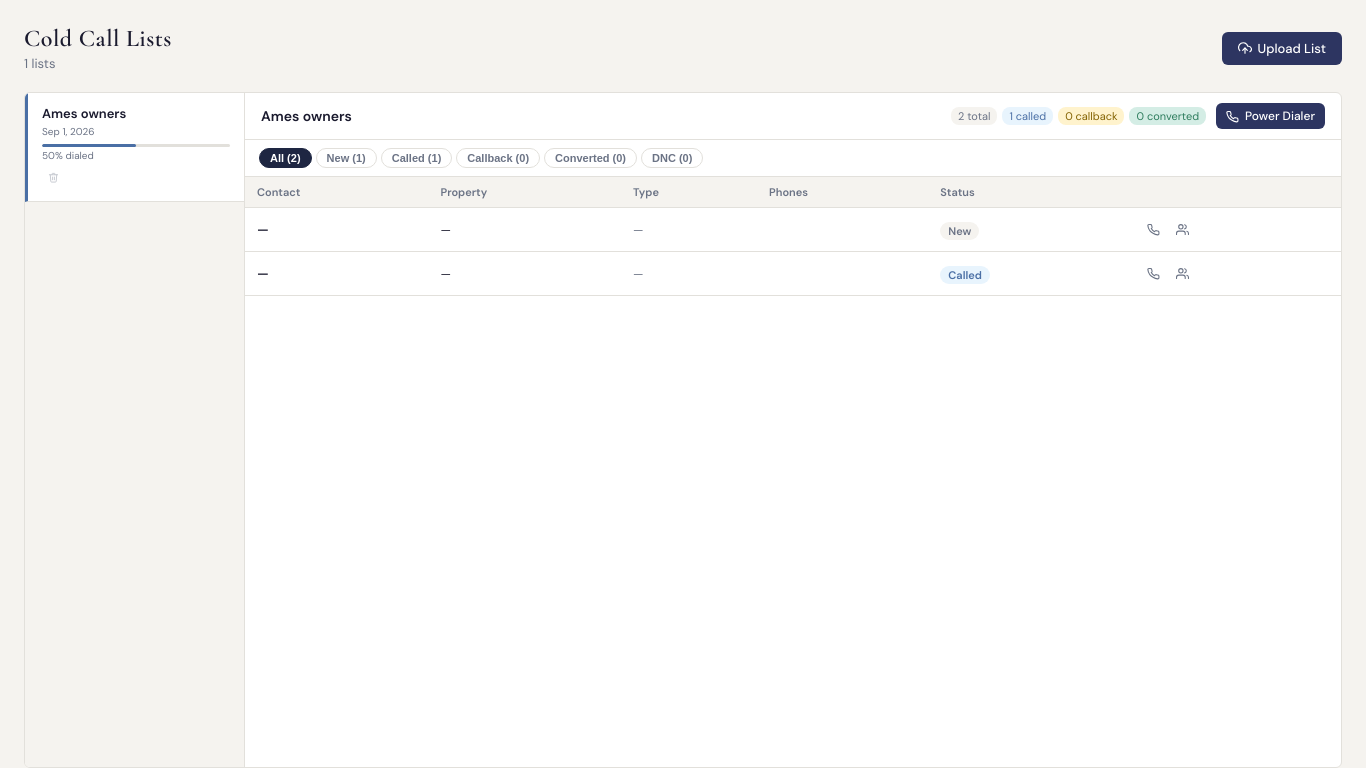
Test case: Cold call list delete › reports a refused delete (no rows removed) and keeps the list
Click the button named "Delete list Ames owners" at (54, 178), box [42,166,65,189]
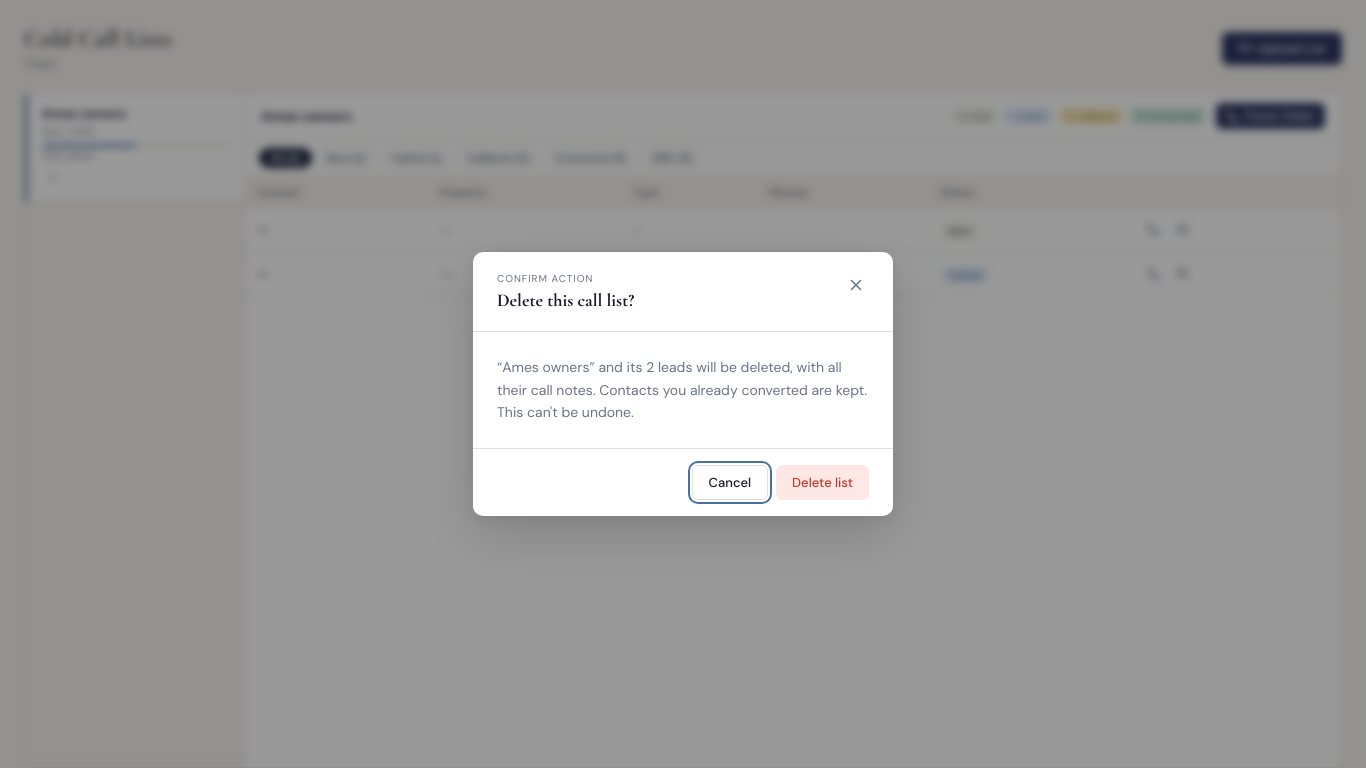
Click the button "Delete list" at (823, 482), box [776,465,869,500]
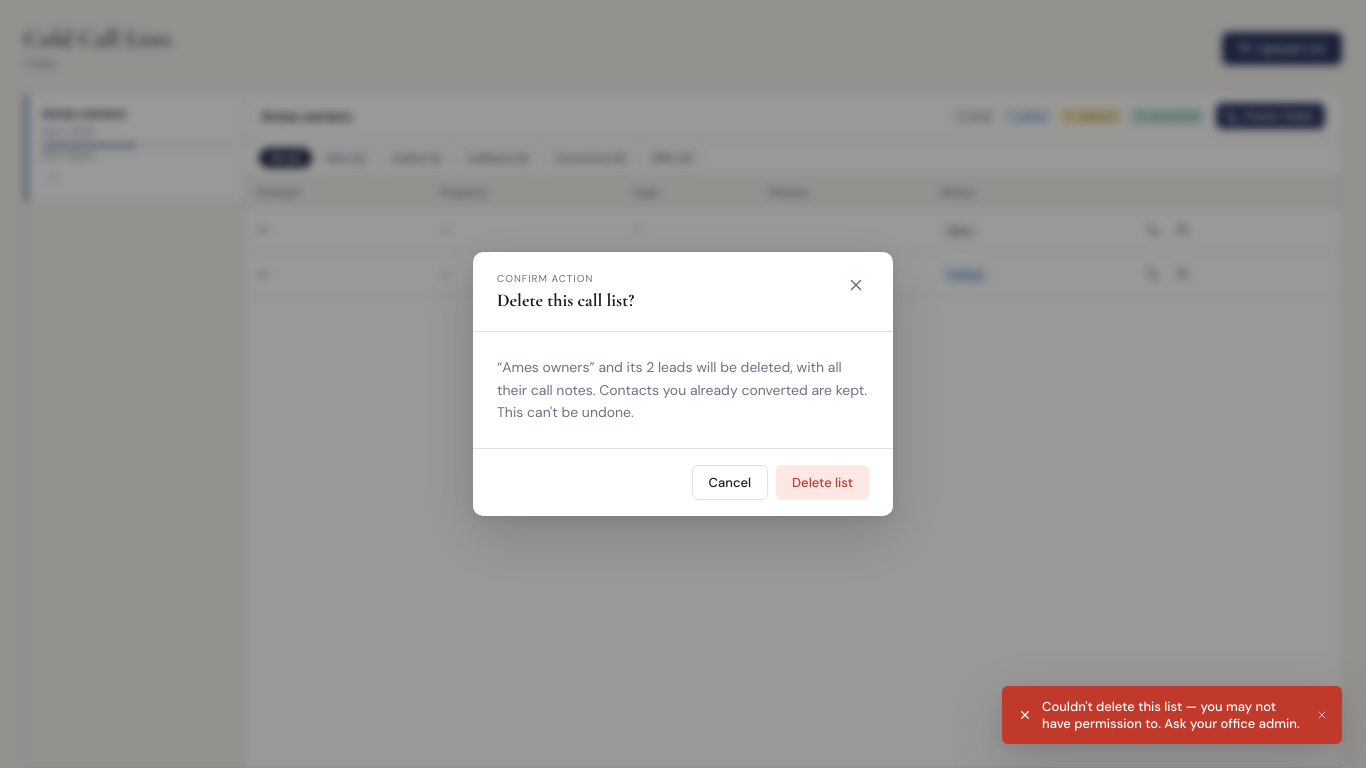
Expected: the message shows "Couldn't delete this list", [1042,698,1300,732]
